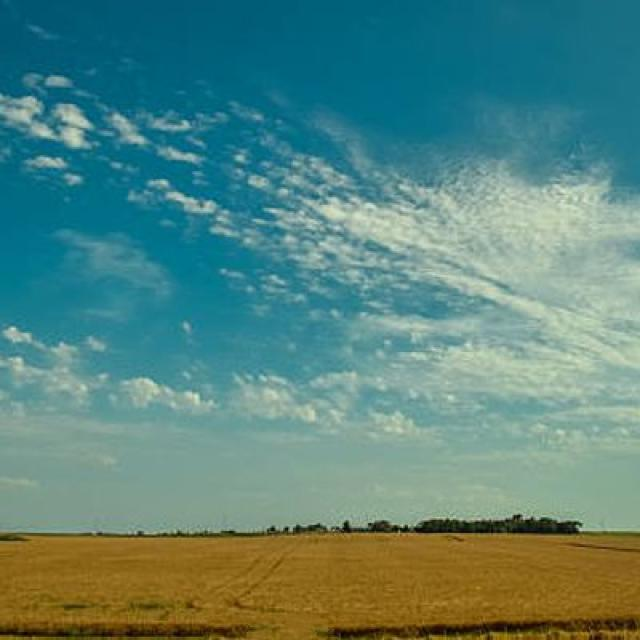Cs: (208, 150, 637, 467)
